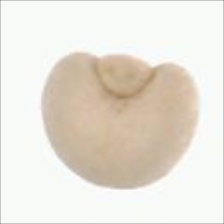L5: (82, 49, 171, 105), (71, 167, 139, 192)
L6: (38, 48, 203, 195)
